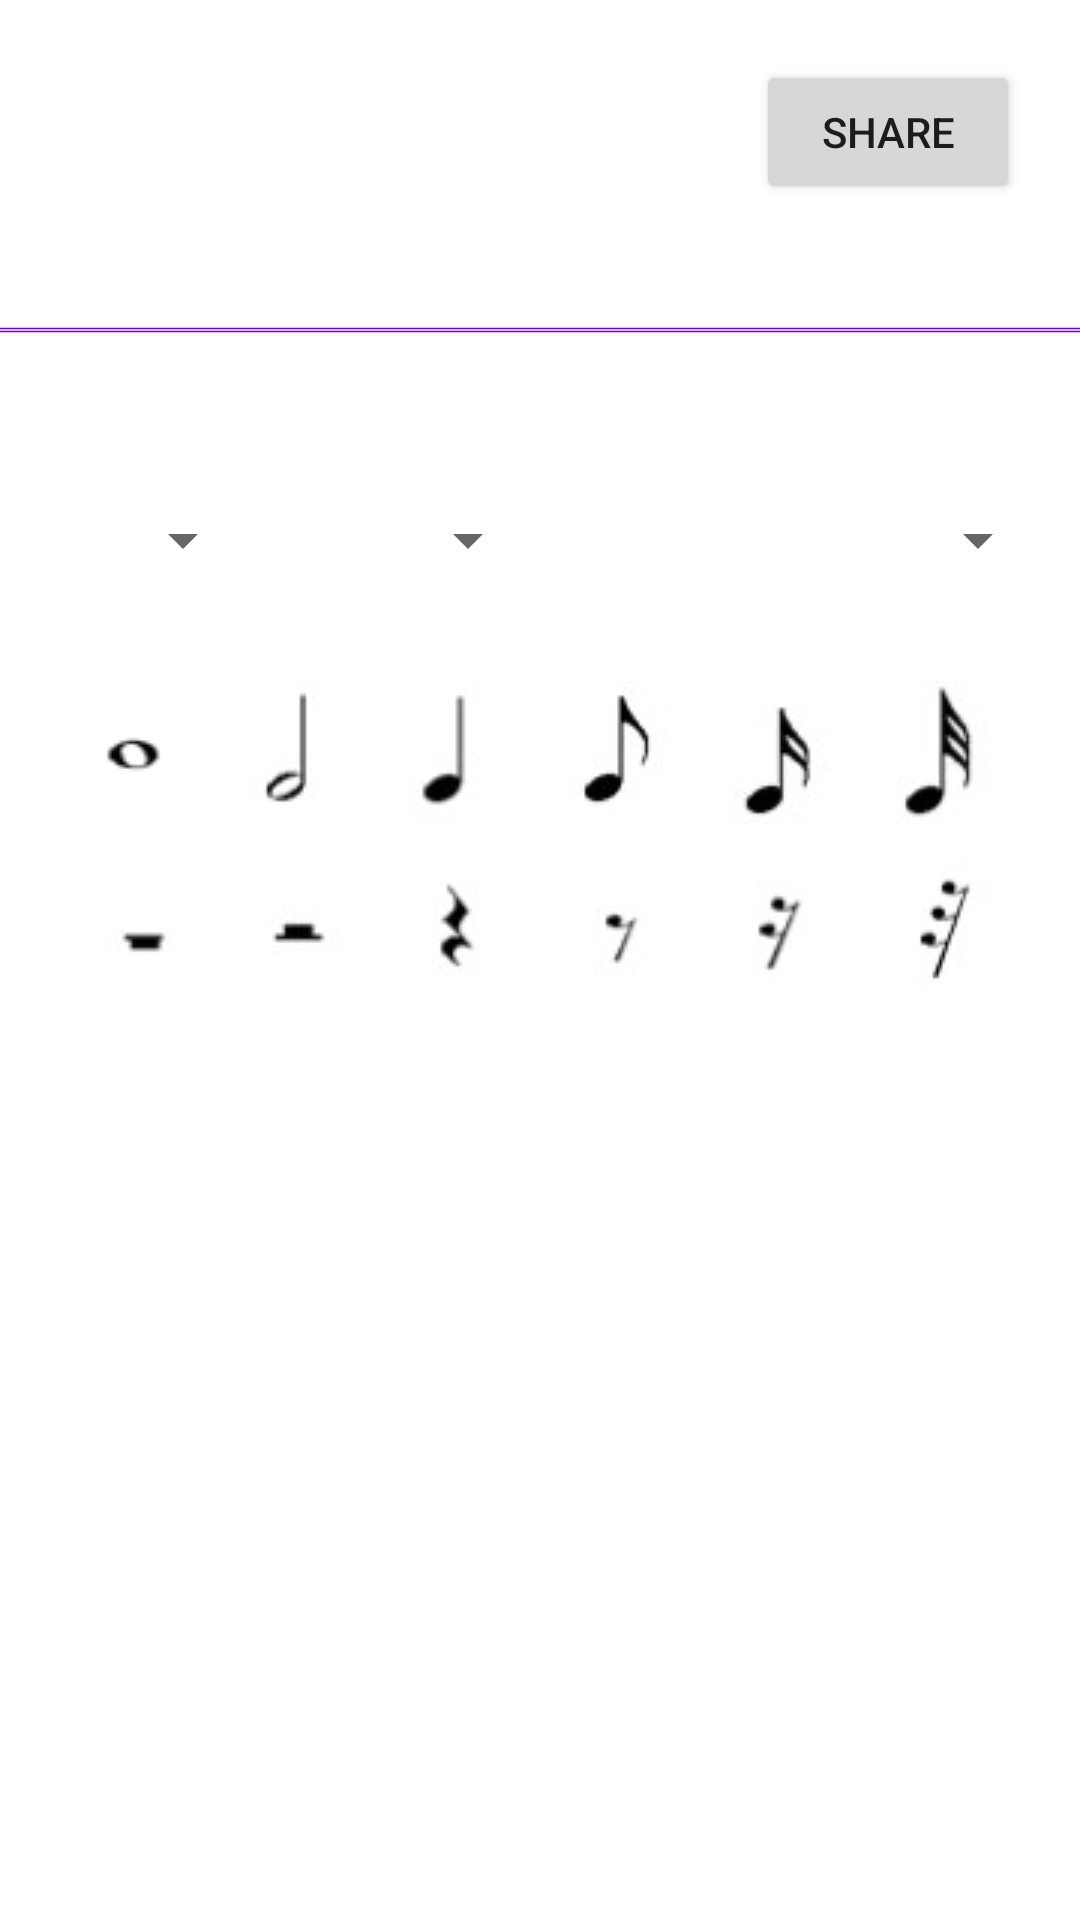

Named icons in this screenshot (1080px x 1920px) and their centers, (x,y):
eighth: (616,749)
eighthsh: (621,938)
half: (286,747)
halfsh: (299,933)
quarter: (443,750)
quartersh: (457,925)
sixteenth: (777,761)
sixteenthsh: (779,933)
thirtysecond: (938,751)
thirtysecondsh: (945,929)
whole: (133,754)
wholesh: (144,942)
